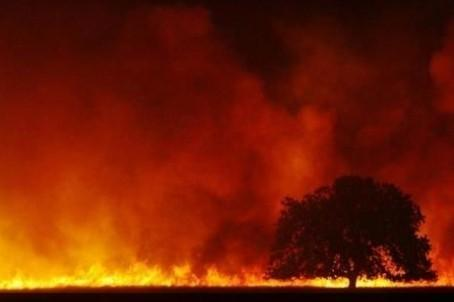fire: (1, 207, 201, 281)
